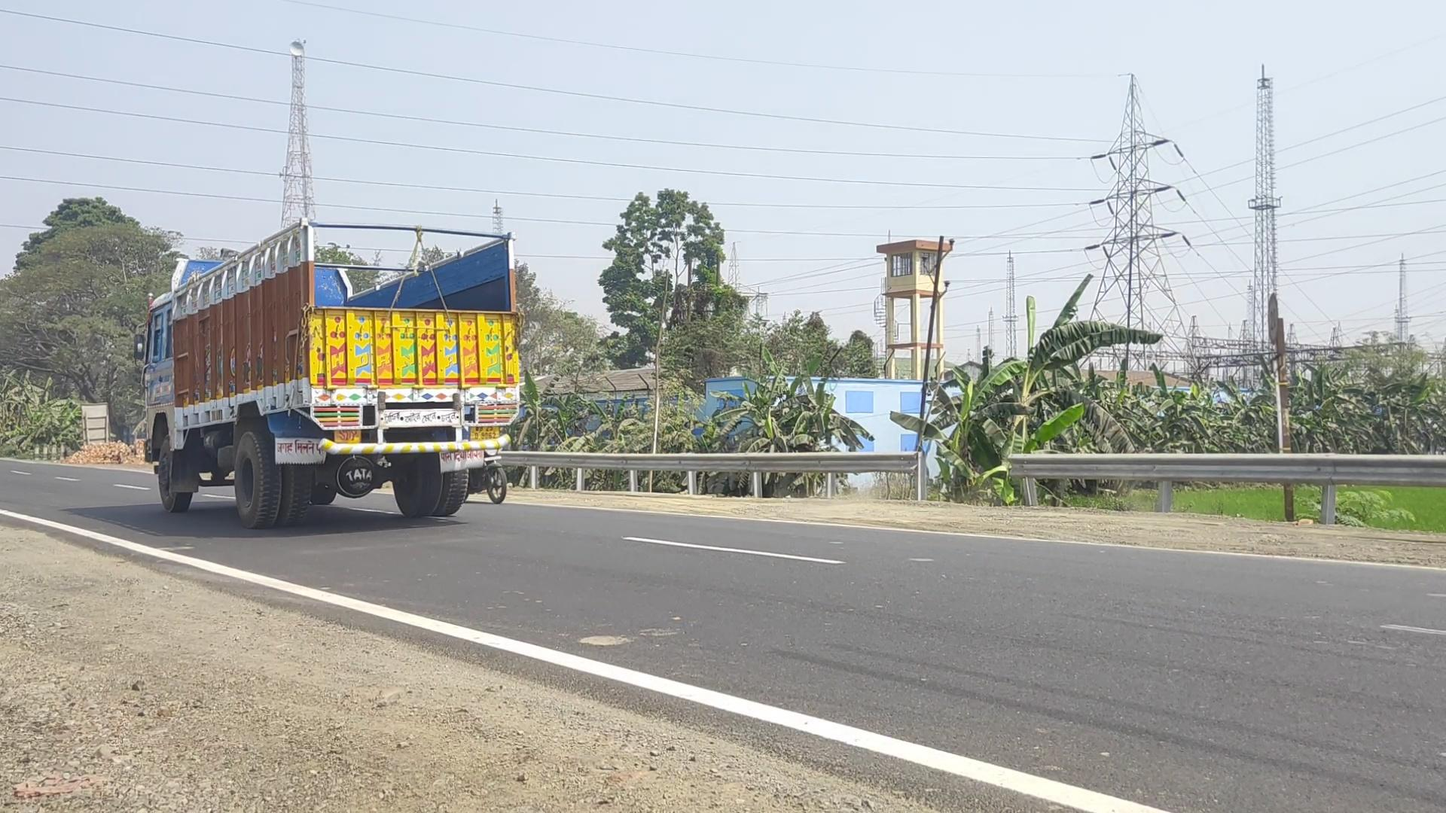truck: (134, 217, 525, 531)
